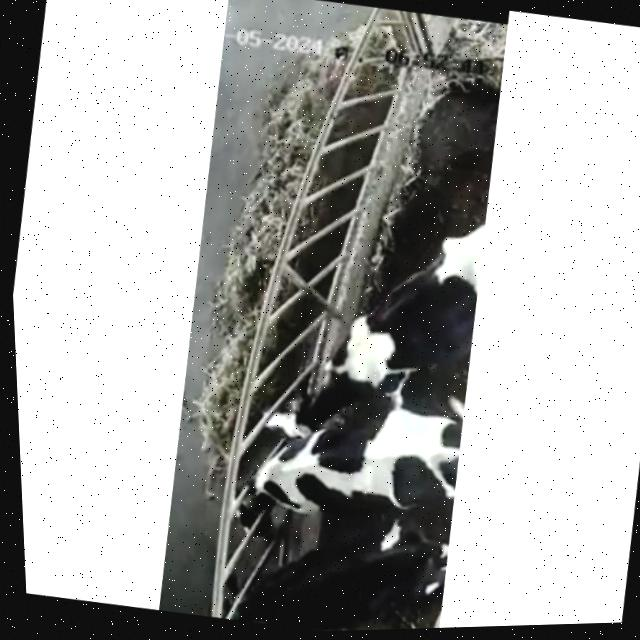eat: (185, 286, 397, 459), (182, 437, 357, 555), (173, 539, 339, 636)
